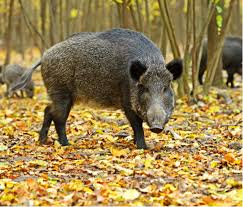boar: (12, 26, 185, 151)
